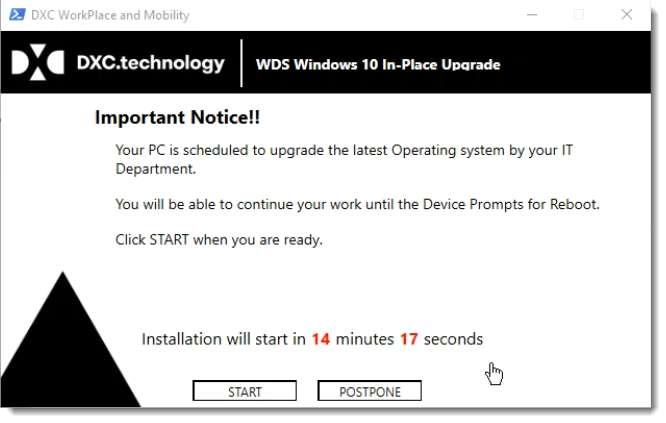DXC: (11, 43, 225, 80)
